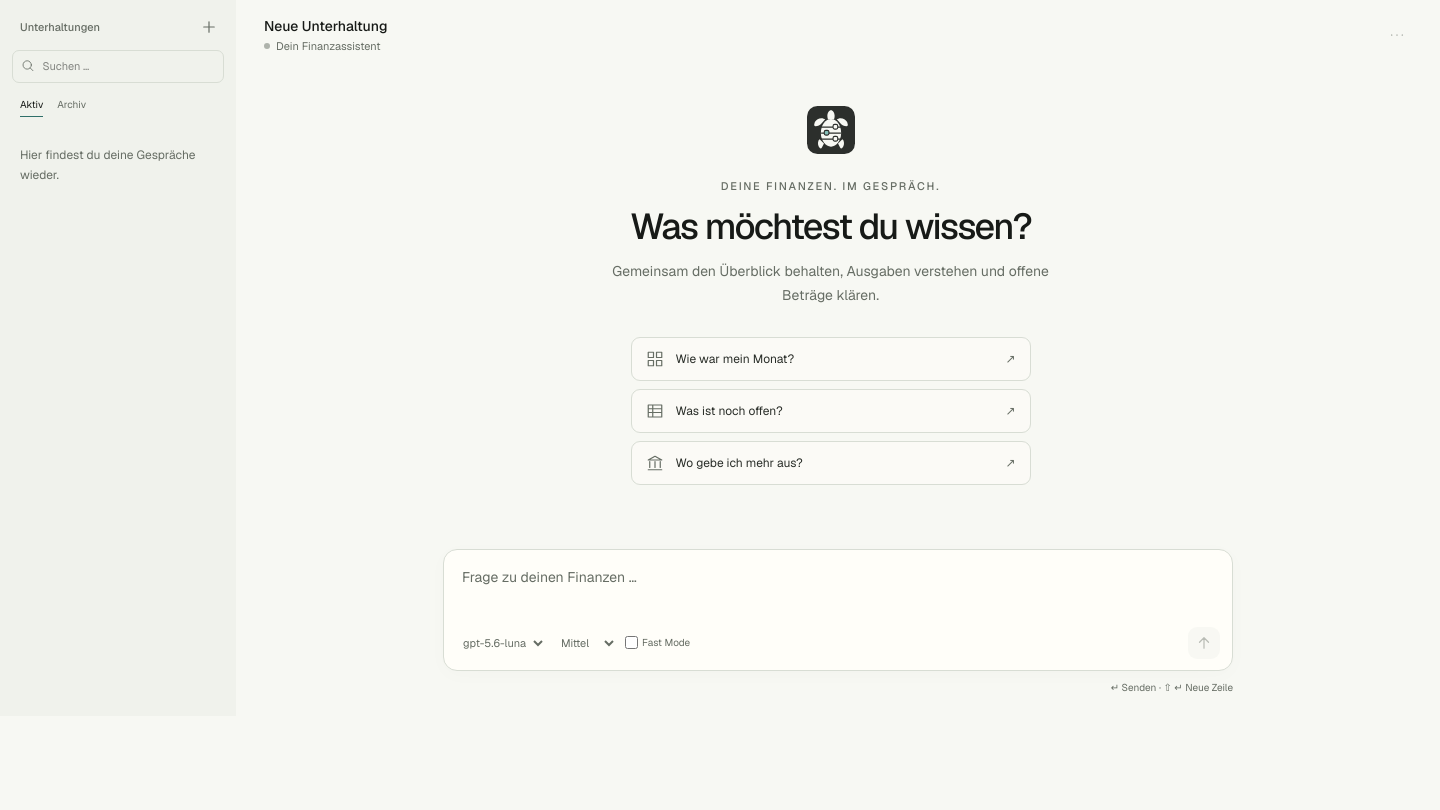
Test case: FinanceAssistant › ignores a late active-list refresh after switching to the archive
Expected: the text box named "Frage an den Finanzassistenten" is shown, [450,556,1226,624]
Click the button "Archiv" at (72, 104), box [57,92,86,116]
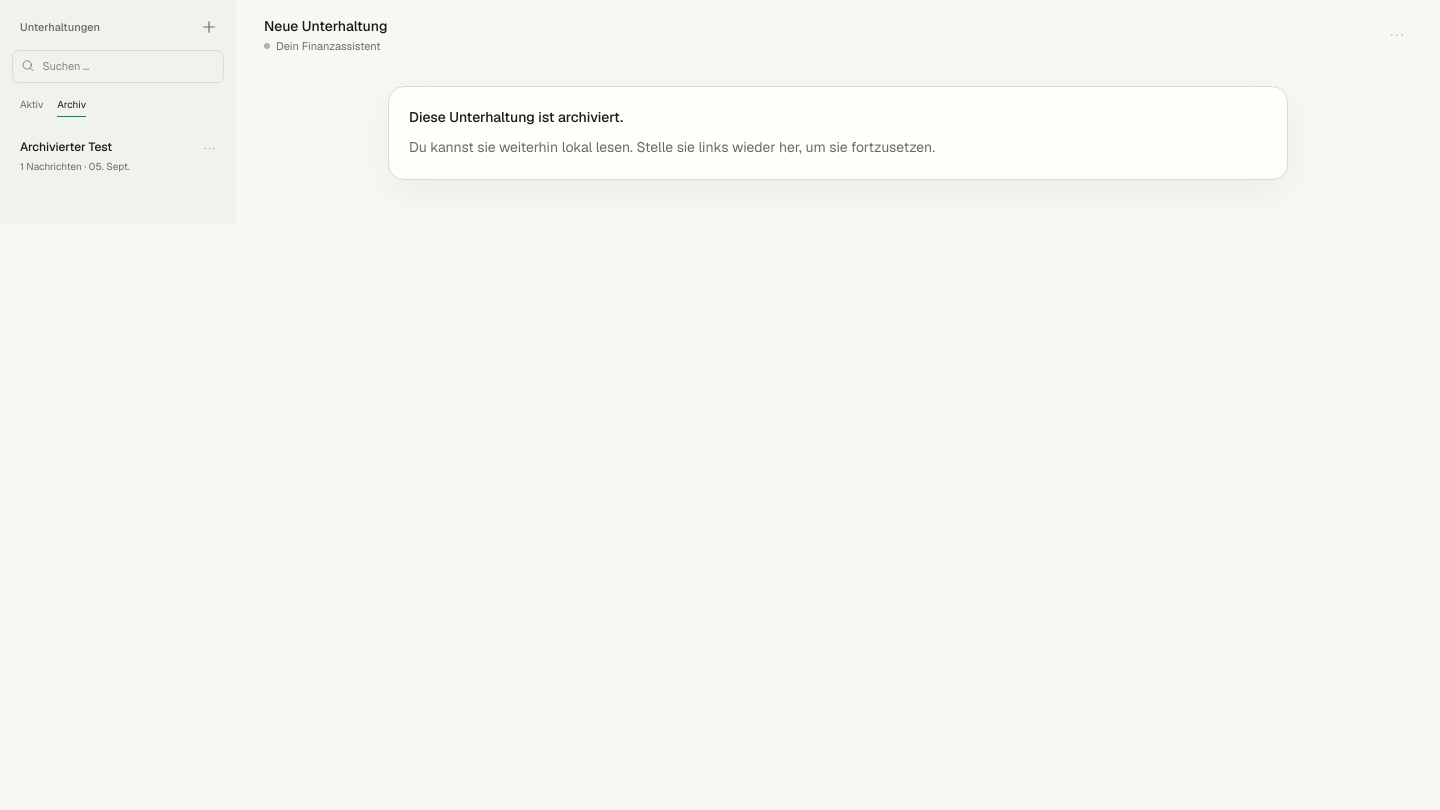
Expected: the field labelled "Frage an den Finanzassistenten" is not shown
Result: the text "Archivierter Test" is shown at [20,138,112,154]
